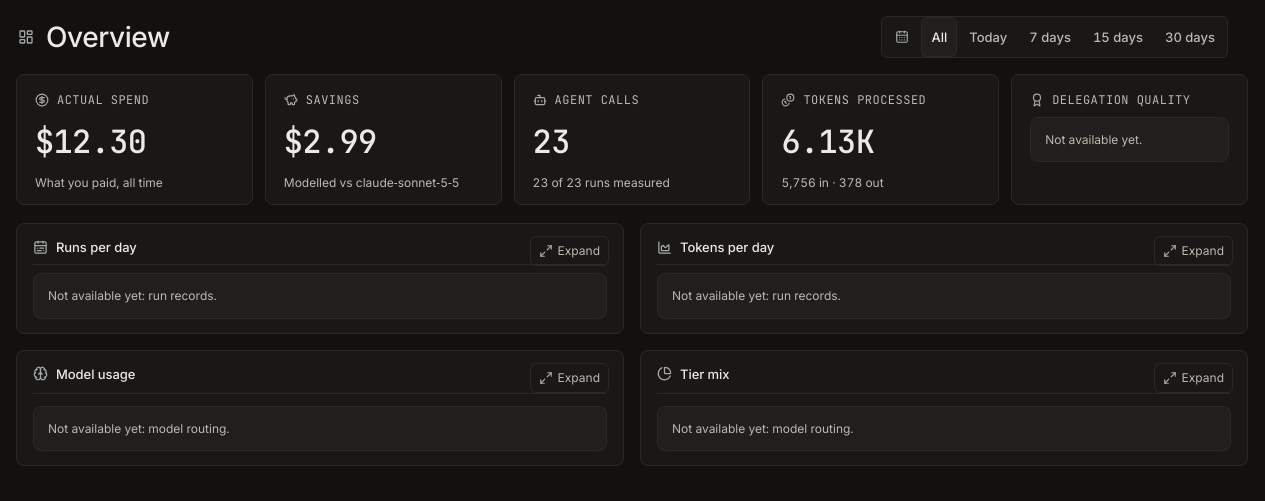
it: OMN-21015 AC7: the Overview tiles switch between today (UTC) and all time › W3: a day with no runs is that day's zero, says so, and never shows yesterday's figures
Click the radio button with aria-label "Today (UTC)". click: (988,37)
box: [959,17,1017,57]
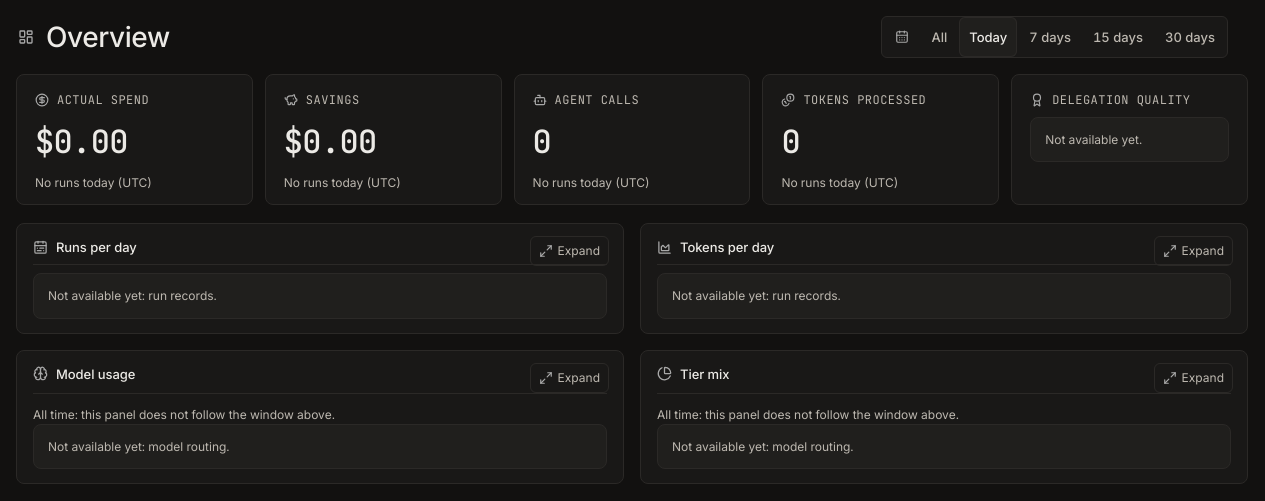
expect the text "No runs today (UTC)" is shown: met, box [35,175,152,190]
